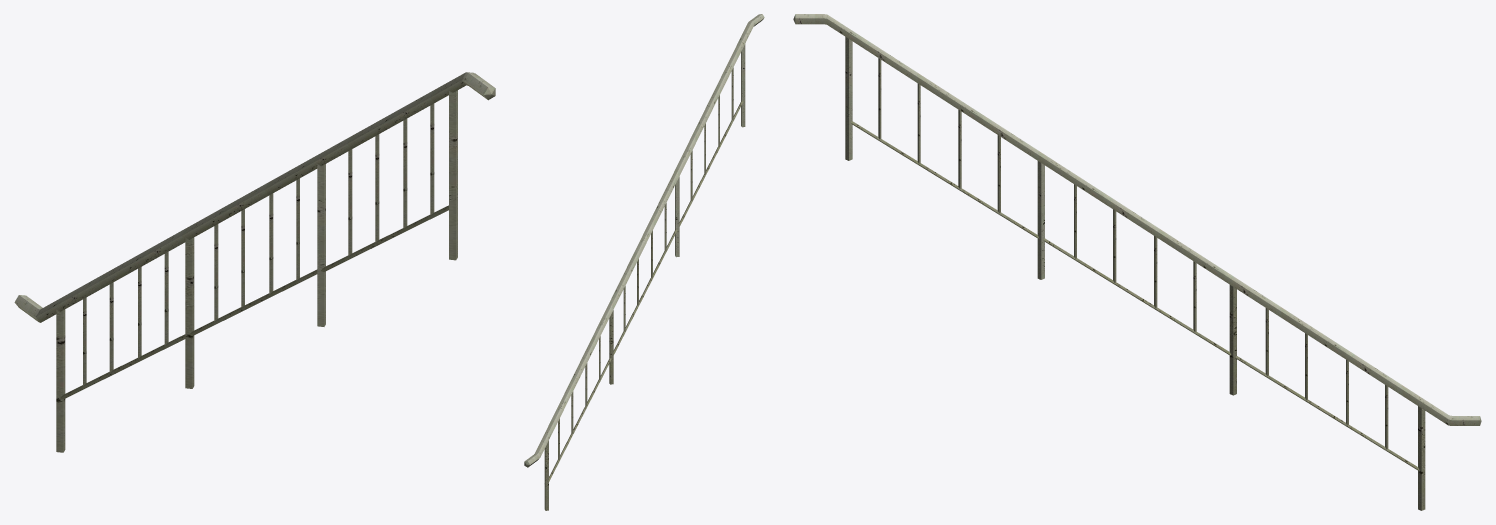
The model's file is handrailcluster03a.glb.
3 renders of one model, left to right at view 1: azimuth 30°, elevation 25°; view 2: azimuth 150°, elevation 25°; view 3: azimuth 270°, elevation 25°, orthographic. The views are drawn at different scales.
Parts seen in each view (by area): view 1: 0_handrail02a; view 2: 0_handrail02a; view 3: 0_handrail02a.
Boxes of the visible parts, box(x1,y1,x2,y2) form: 0_handrail02a: box(14, 72, 495, 452); 0_handrail02a: box(524, 14, 764, 510); 0_handrail02a: box(793, 14, 1481, 510).
Size of the model in its own units: 0.0766 by 4.23 by 5.33.
1 material, 1 textured.
